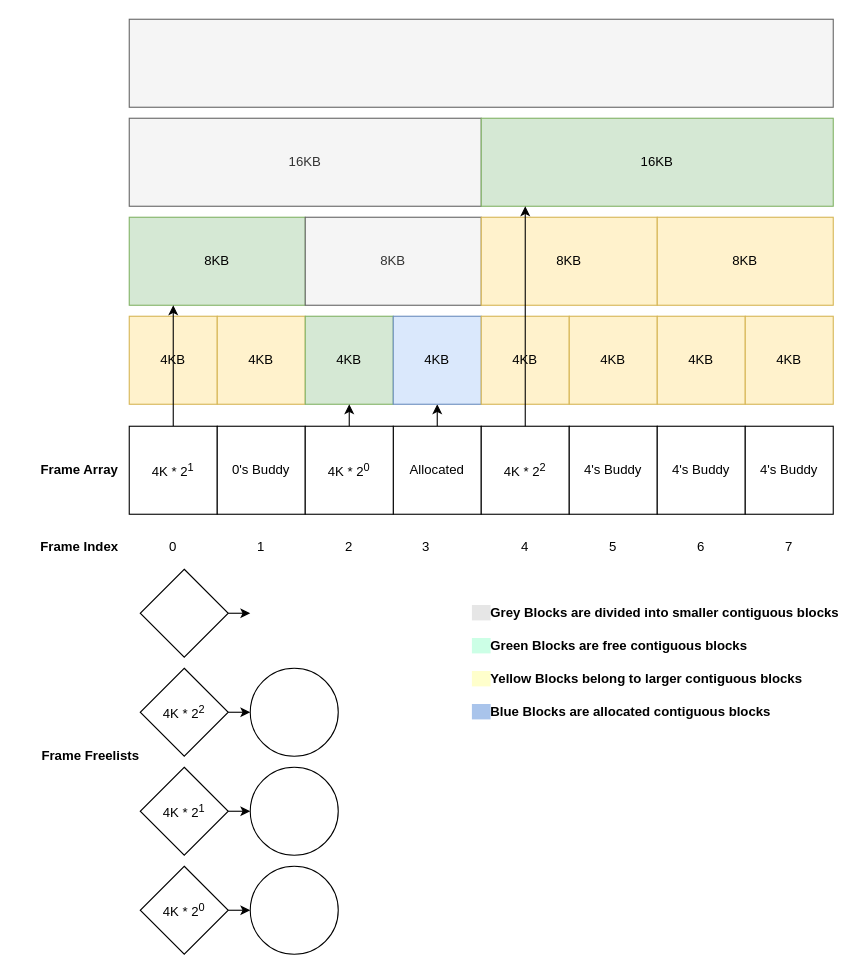
Some shapes in this 862 by 974 pixel diagram are drawn without their labels. The centre of each missing label's shape, as x and y in pixels:
"32KB" goes at point (480, 62).
"4K * 2 3" goes at point (183, 612).
"Index: 0" goes at point (293, 810).
"Index: 2" goes at point (293, 909).
"Index: 4" goes at point (293, 711).
